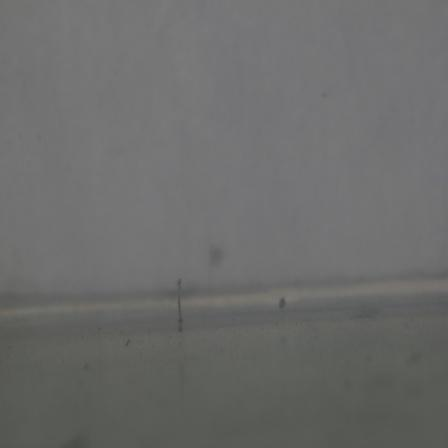Jentik-Nyamuk: (171, 274, 190, 335)
